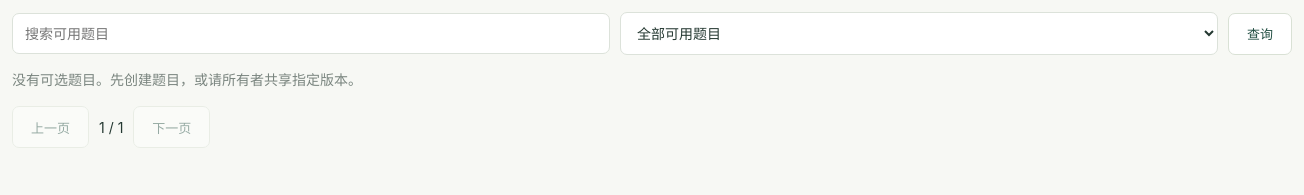
Test: 第二阶段五项审阅修复 › 迟到的旧搜索结果不能覆盖新关键词的结果
Type "old" into the field with placeholder "搜索可用题目" at (311, 34), box [12,13,610,54]
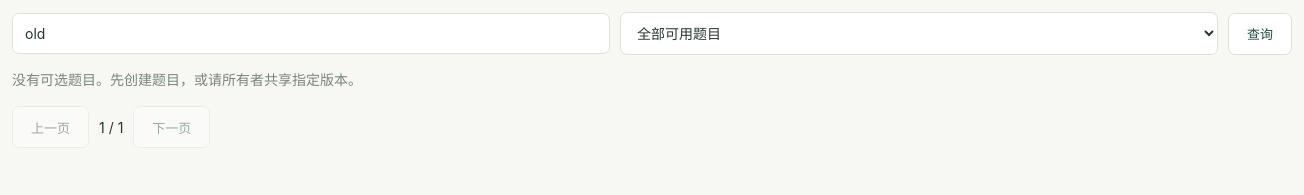
Press Enter in the field named "搜索题目", box [12,13,610,54]
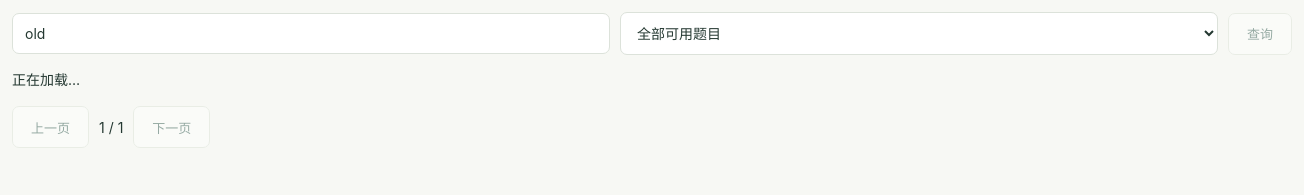
Replace the text in the field named "搜索题目" with "new" at (311, 34), box [12,13,610,54]
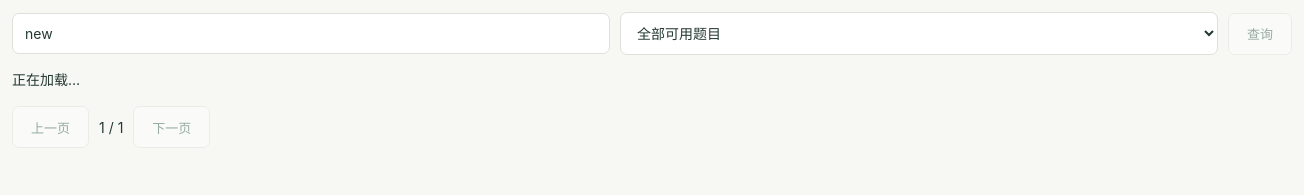
Press Enter in the field named "搜索题目", box [12,13,610,54]
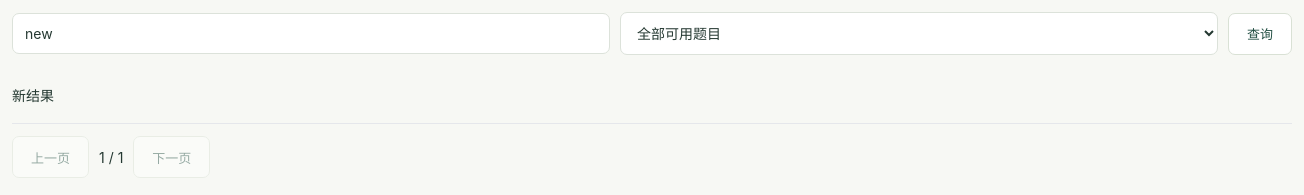
expect the text "新结果" is shown: met, box [12,87,54,104]
